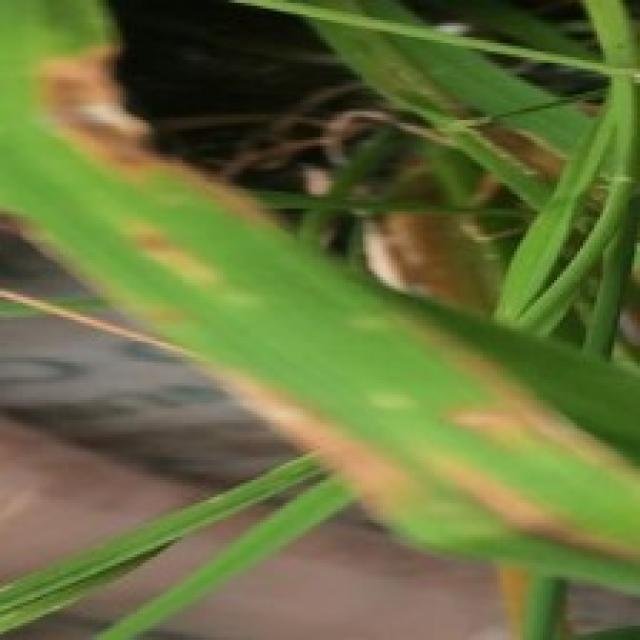Unhealthy: (36, 31, 273, 227), (399, 304, 621, 469), (198, 362, 419, 527), (449, 455, 640, 560), (131, 216, 202, 278)
